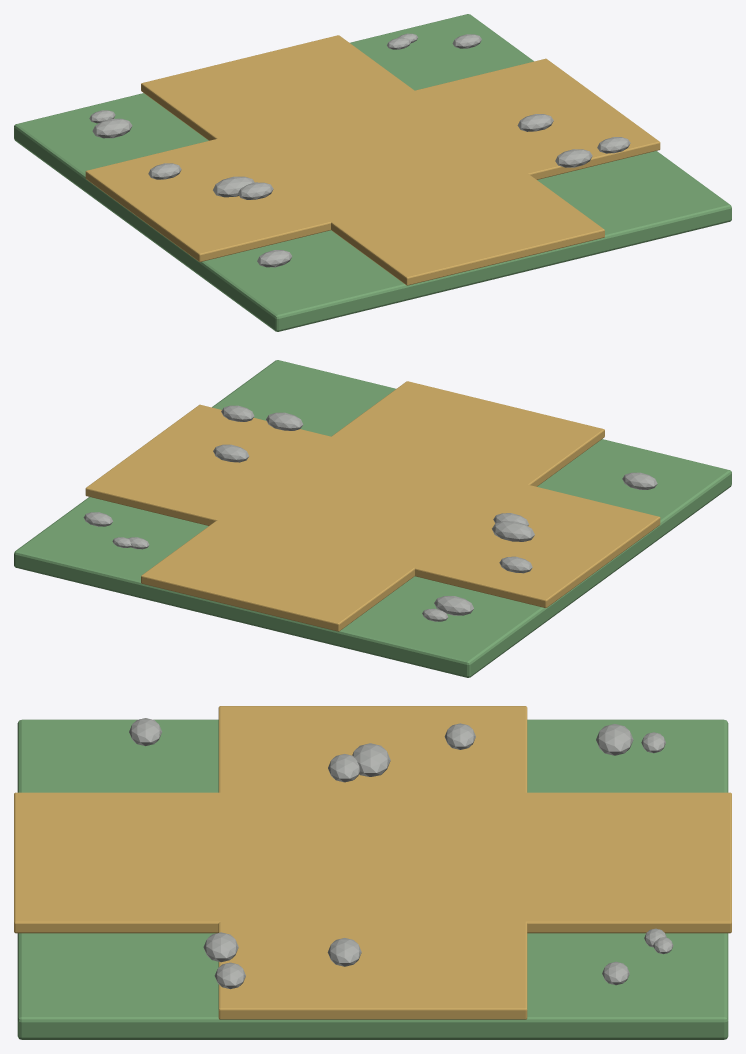
Rendered from ROAD_DIRT_1x1_CROSS.glb.
3 views of the same model, one above another, from view 1: azimuth 30°, elevation 25°; view 2: azimuth 150°, elevation 25°; view 3: azimuth 270°, elevation 25° (orthographic). The views are drawn at different scales.
Visible parts, largest first — view 1: ROAD_DIRT_1x1_CROSS_Visual; view 2: ROAD_DIRT_1x1_CROSS_Visual; view 3: ROAD_DIRT_1x1_CROSS_Visual.
Part boxes in pixels (box(x1,y1,x2,y2)): ROAD_DIRT_1x1_CROSS_Visual: box(14, 14, 731, 331); ROAD_DIRT_1x1_CROSS_Visual: box(14, 360, 731, 677); ROAD_DIRT_1x1_CROSS_Visual: box(14, 706, 731, 1039).
Size of what is drawn, in the model's own units: 2 by 0.1546 by 2.
